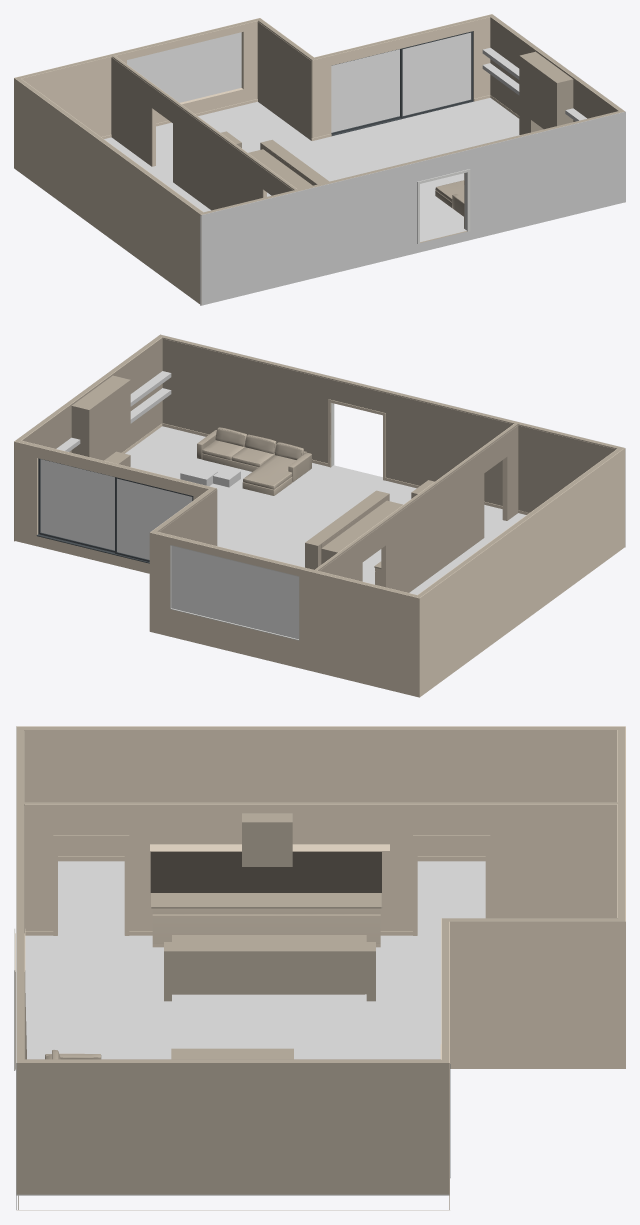
The model's file is ivan.glb.
3 views of the same model, one above another, from view 1: azimuth 30°, elevation 25°; view 2: azimuth 150°, elevation 25°; view 3: azimuth 270°, elevation 25° (orthographic). The views are drawn at different scales.
Visible parts, largest first — view 1: geo_68, geo_11, Hotspot_geo_floor, geo_bathroom_walls, geo_windows_127, geo_48, Hotspot_geo_fireplace, Hotspot_geo_accent_wall, Hotspot_geo_island, geo_90, Hotspot_geo_shelves, geo_64; view 2: geo_11, geo_48, geo_bathroom_walls, geo_windows_127, Hotspot_geo_floor, Hotspot_geo_fireplace, Hotspot_geo_accent_wall, Hotspot_geo_island, Hotspot_geo_shelves, geo_90, Hotspot_geo_coffee_table, geo_64; view 3: geo_11, geo_48, Hotspot_geo_floor, Hotspot_geo_backsplash, Hotspot_geo_island, Hotspot_geo_kitchen_countertop, Hotspot_geo_kitchen_cabinet, Hotspot_geo_fireplace, geo_50, geo_bathroom_walls.
Boxes of the visible parts, <box> form: geo_68: <box>201,111,625,305</box>; geo_11: <box>14,14,618,305</box>; Hotspot_geo_floor: <box>104,98,519,241</box>; geo_bathroom_walls: <box>111,22,466,242</box>; geo_windows_127: <box>127,32,471,132</box>; geo_48: <box>15,14,624,214</box>; Hotspot_geo_fireplace: <box>519,51,573,134</box>; Hotspot_geo_accent_wall: <box>490,17,617,121</box>; Hotspot_geo_island: <box>248,139,329,189</box>; geo_90: <box>331,31,473,135</box>; Hotspot_geo_shelves: <box>482,47,586,121</box>; geo_64: <box>417,169,470,243</box>; geo_11: <box>14,337,625,697</box>; geo_48: <box>14,334,623,597</box>; geo_bathroom_walls: <box>14,338,616,592</box>; geo_windows_127: <box>40,459,298,639</box>; Hotspot_geo_floor: <box>125,426,526,594</box>; Hotspot_geo_fireplace: <box>71,375,130,466</box>; Hotspot_geo_accent_wall: <box>22,338,162,452</box>; Hotspot_geo_island: <box>305,490,402,569</box>; Hotspot_geo_shelves: <box>56,371,171,451</box>; geo_90: <box>36,458,193,563</box>; Hotspot_geo_coffee_table: <box>180,464,240,487</box>; geo_64: <box>170,403,334,640</box>; geo_11: <box>15,726,625,1209</box>; geo_48: <box>16,726,625,1194</box>; Hotspot_geo_floor: <box>25,861,485,1059</box>; Hotspot_geo_backsplash: <box>150,852,381,892</box>; Hotspot_geo_island: <box>164,935,375,1001</box>; Hotspot_geo_kitchen_countertop: <box>151,893,381,908</box>; Hotspot_geo_kitchen_cabinet: <box>242,813,292,866</box>; Hotspot_geo_fireplace: <box>171,1048,293,1059</box>; geo_50: <box>16,726,449,1209</box>; geo_bathroom_walls: <box>16,731,449,1210</box>.
Bounding box in the file's own units: 15.21 × 3.12 × 11.66.
